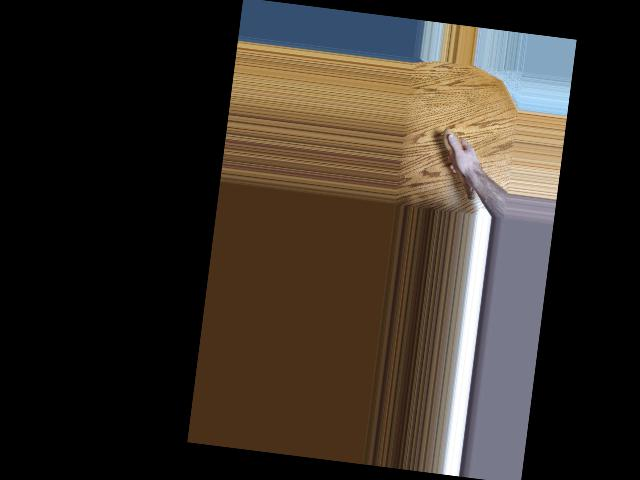sweet_potato: (433, 126, 484, 212)
